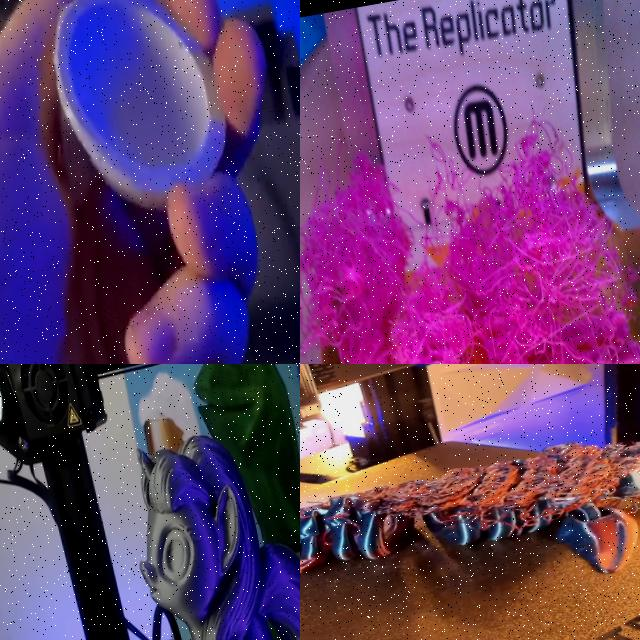spaghetti: (300, 105, 640, 364), (364, 419, 640, 551)
